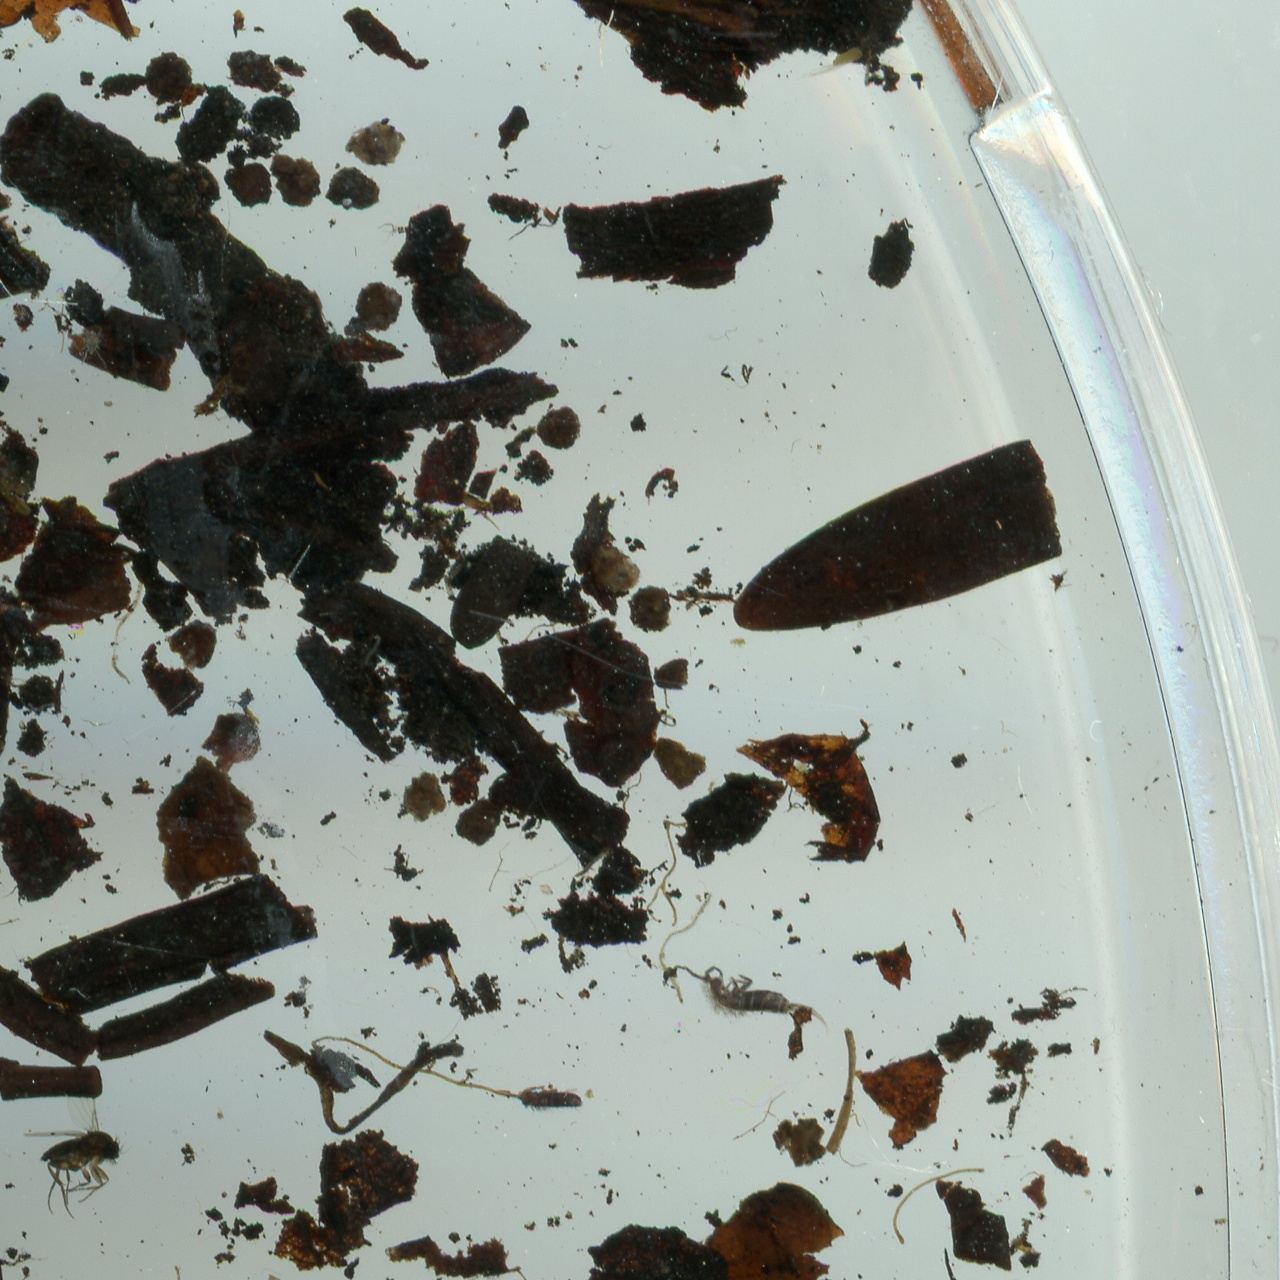arthropod: (21, 1096, 123, 1219), (666, 964, 836, 1028), (515, 1087, 584, 1114)
